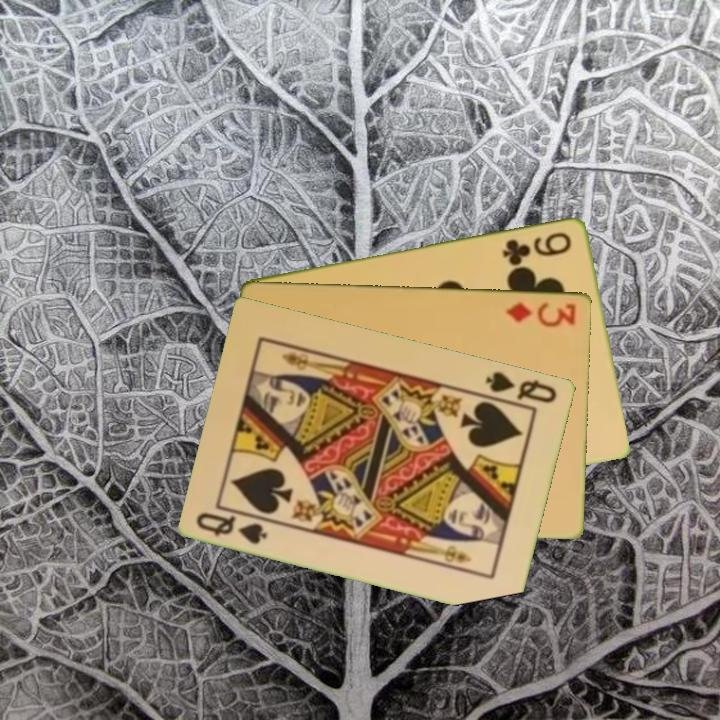3d: (503, 298, 579, 329)
9c: (499, 228, 575, 266)
Qs: (482, 367, 560, 406), (193, 508, 271, 547)
